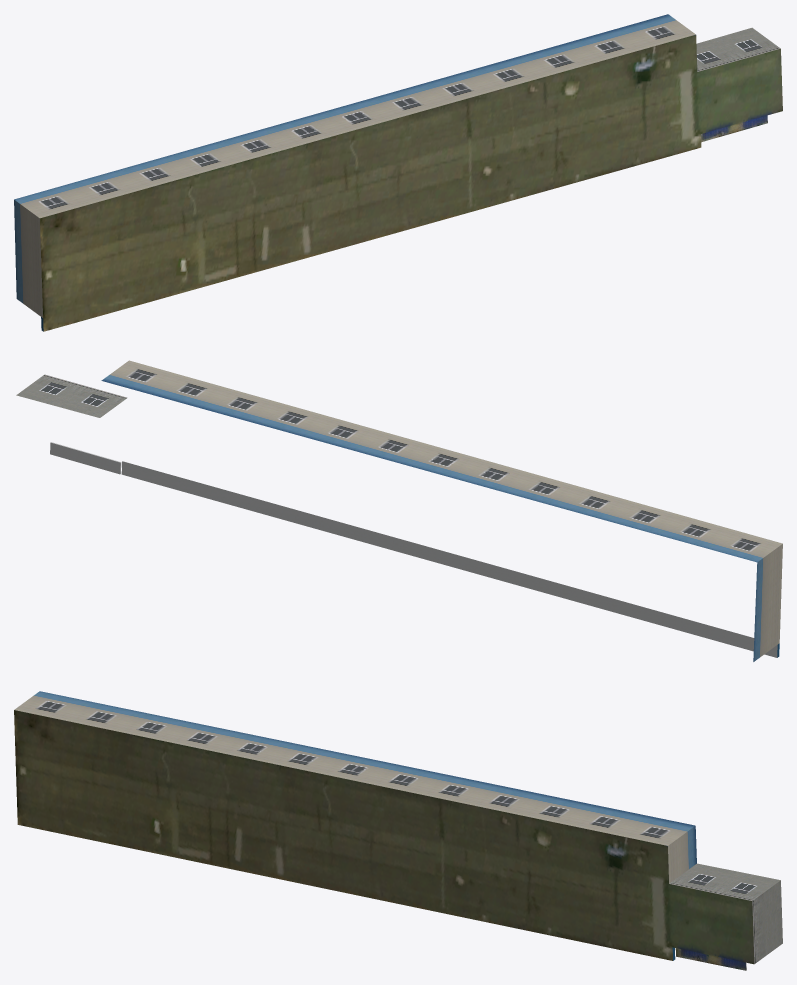
The picture shows the model from 3 angles, top to bottom: view 1: azimuth 30°, elevation 25°; view 2: azimuth 150°, elevation 25°; view 3: azimuth 330°, elevation 25°; orthographic projection.
Visible parts, largest first — view 1: Group_MatrixTransform_i94b012_Geometry_9, Group_MatrixTransform_i94b012_Geometry_0, Group_MatrixTransform_i94b012_Geometry_2, Group_MatrixTransform_i94b012_Geometry_3, Group_MatrixTransform_i94b012_Geometry_8; view 2: Group_MatrixTransform_i94b012_Geometry_0, Group_MatrixTransform_i94b012_Geometry_7, Group_MatrixTransform_i94b012_Geometry_2, Group_MatrixTransform_i94b012_Geometry_3; view 3: Group_MatrixTransform_i94b012_Geometry_9, Group_MatrixTransform_i94b012_Geometry_0, Group_MatrixTransform_i94b012_Geometry_3, Group_MatrixTransform_i94b012_Geometry_6, Group_MatrixTransform_i94b012_Geometry_2, Group_MatrixTransform_i94b012_Geometry_8.
Part boxes in pixels (x1=…): Group_MatrixTransform_i94b012_Geometry_9: x1=40, y1=34, x2=782, y2=331; Group_MatrixTransform_i94b012_Geometry_0: x1=14, y1=14, x2=695, y2=218; Group_MatrixTransform_i94b012_Geometry_2: x1=14, y1=200, x2=42, y2=317; Group_MatrixTransform_i94b012_Geometry_3: x1=696, y1=27, x2=780, y2=71; Group_MatrixTransform_i94b012_Geometry_8: x1=701, y1=115, x2=767, y2=142; Group_MatrixTransform_i94b012_Geometry_0: x1=101, y1=360, x2=782, y2=562; Group_MatrixTransform_i94b012_Geometry_7: x1=50, y1=442, x2=777, y2=657; Group_MatrixTransform_i94b012_Geometry_2: x1=753, y1=544, x2=782, y2=661; Group_MatrixTransform_i94b012_Geometry_3: x1=16, y1=374, x2=127, y2=417; Group_MatrixTransform_i94b012_Geometry_9: x1=14, y1=710, x2=754, y2=964; Group_MatrixTransform_i94b012_Geometry_0: x1=14, y1=691, x2=694, y2=845; Group_MatrixTransform_i94b012_Geometry_3: x1=669, y1=863, x2=780, y2=900; Group_MatrixTransform_i94b012_Geometry_6: x1=752, y1=880, x2=782, y2=963; Group_MatrixTransform_i94b012_Geometry_2: x1=668, y1=826, x2=696, y2=883; Group_MatrixTransform_i94b012_Geometry_8: x1=675, y1=948, x2=746, y2=970.
Bounding box in the file's own units: 60.48 × 10.73 × 4.05.
10 materials, 10 textured.
